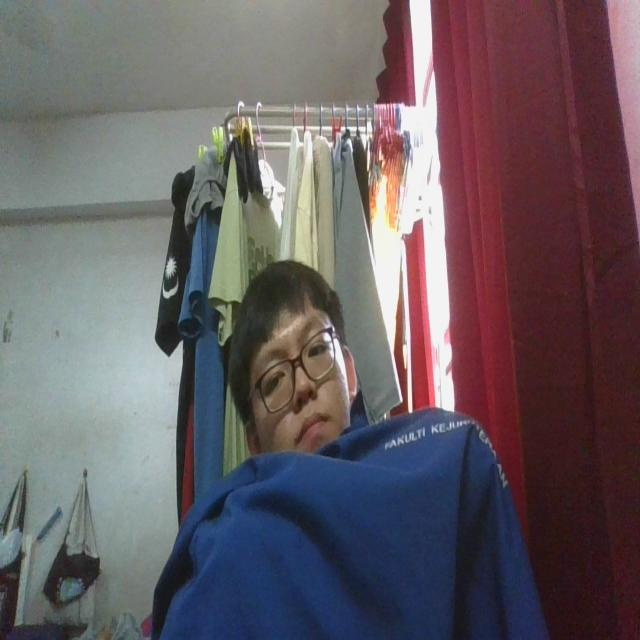person_without_labcoat: (152, 260, 550, 639)
